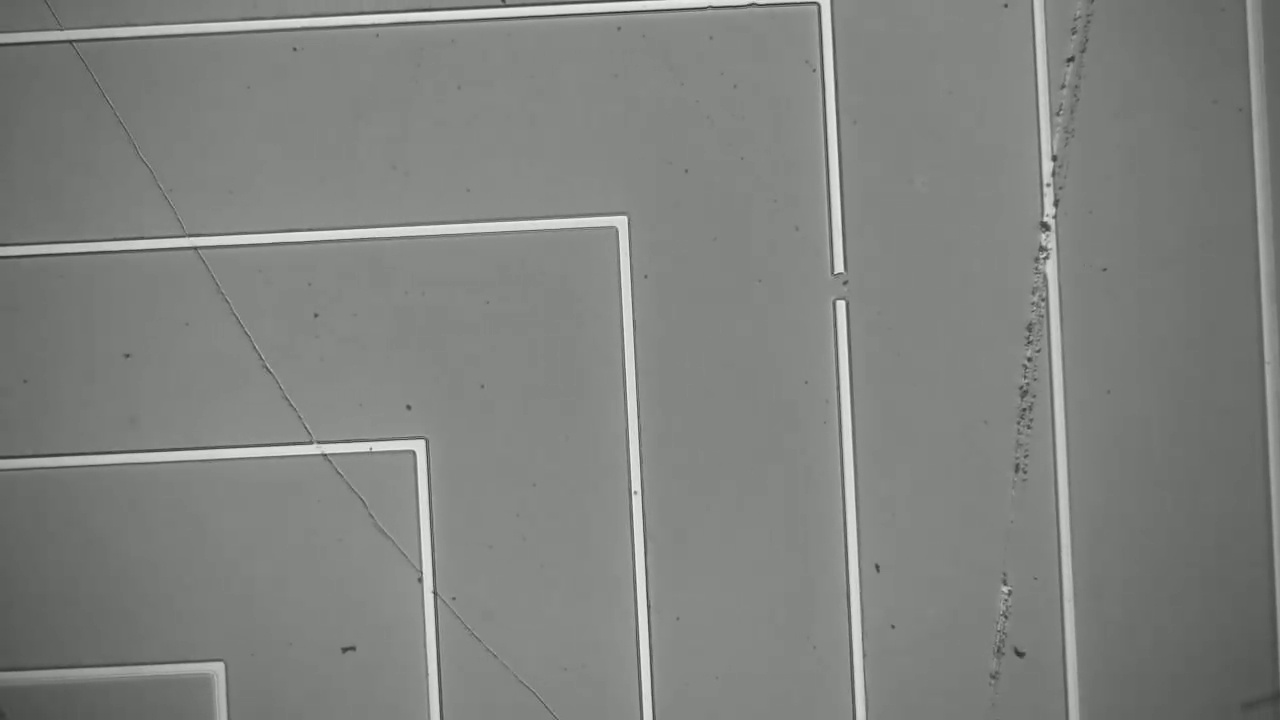open: (810, 254, 869, 327)
scratch: (37, 11, 554, 716), (980, 7, 1101, 710)
